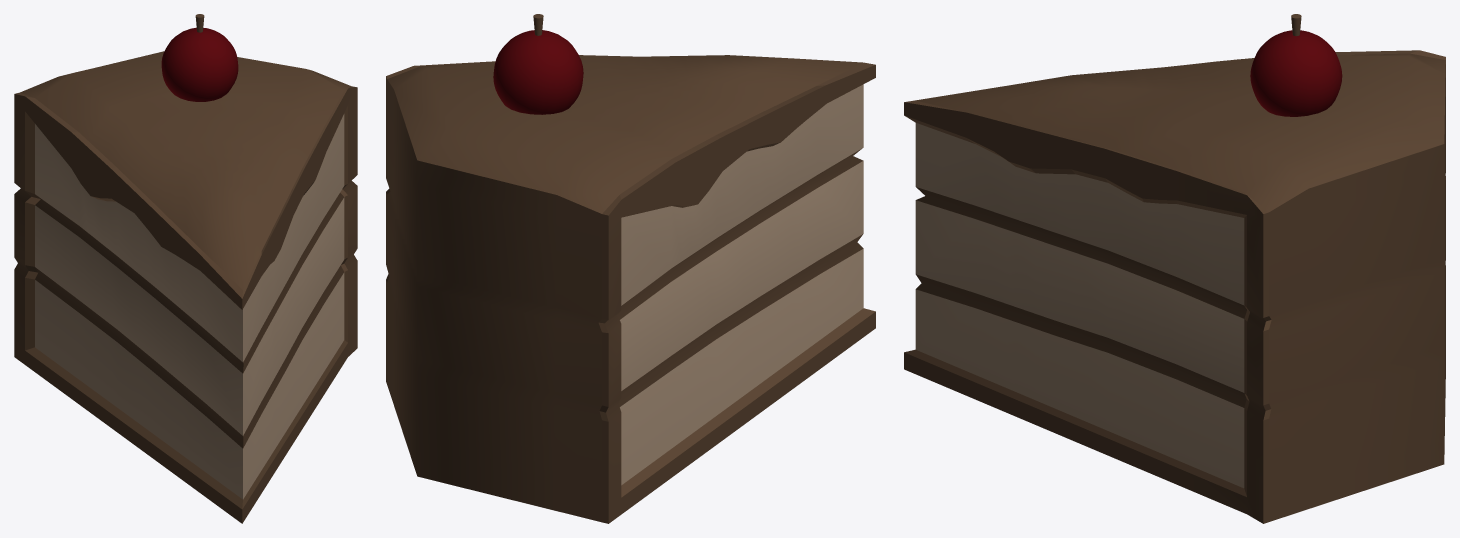
File: Gato_Choco.fbx
The picture shows the model from 3 angles, left to right: view 1: azimuth 30°, elevation 25°; view 2: azimuth 150°, elevation 25°; view 3: azimuth 270°, elevation 25°; orthographic projection. The views are drawn at different scales.
Visible parts, largest first — view 1: pCube1, pSphere1; view 2: pCube1, pSphere1; view 3: pCube1, pSphere1.
Part boxes in pixels (box(x1,y1,x2,y2)): pCube1: box(14, 51, 357, 523); pSphere1: box(161, 14, 238, 101); pCube1: box(386, 55, 875, 523); pSphere1: box(493, 14, 583, 114); pCube1: box(904, 50, 1445, 523); pSphere1: box(1250, 14, 1342, 116).
Size of the model in its own units: 1.03 by 1.33 by 1.53.
